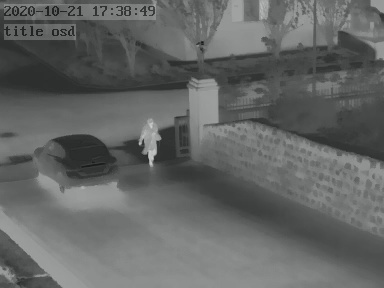person: (141, 115, 159, 169)
vehicle: (32, 131, 121, 191)
